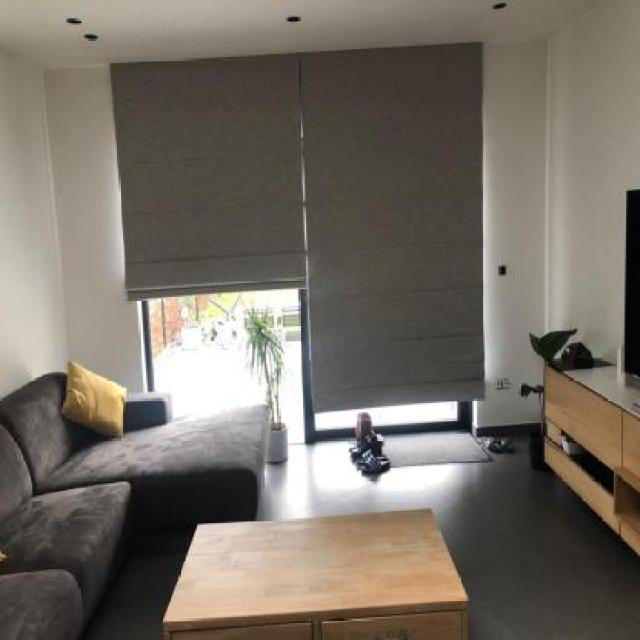floor: (257, 427, 640, 640), (65, 525, 196, 639)
